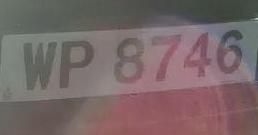4: (181, 27, 216, 81)
6: (212, 25, 248, 80)
7: (146, 29, 185, 86)
8: (106, 32, 155, 87)
P: (55, 34, 99, 95)
W: (18, 35, 59, 102)
